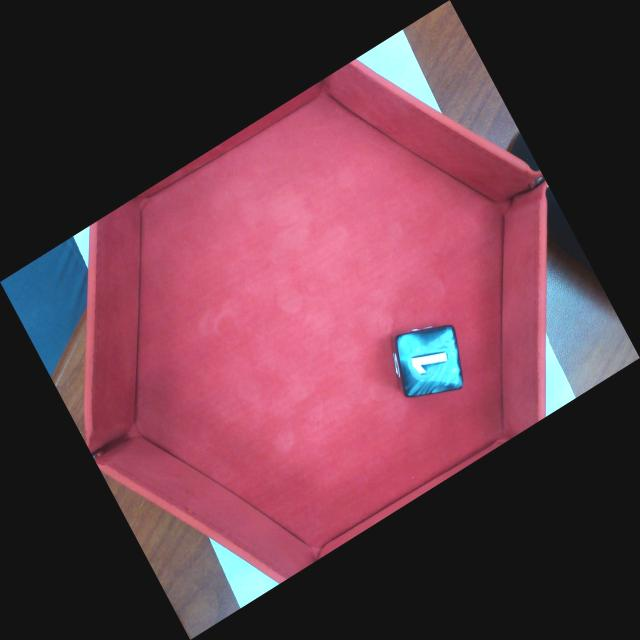dice: (393, 323, 465, 399)
